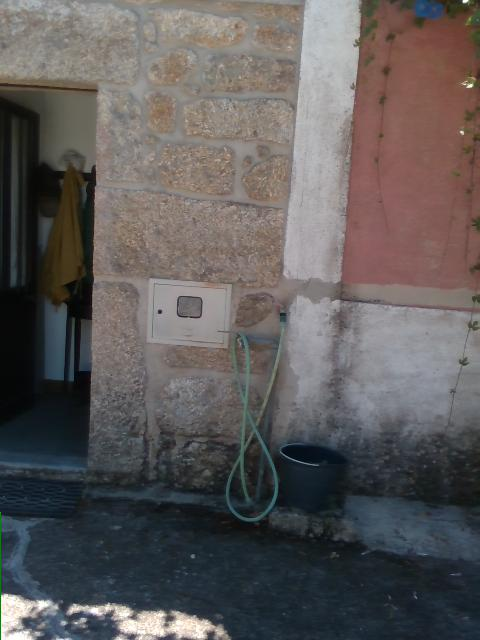door: (1, 94, 38, 416)
